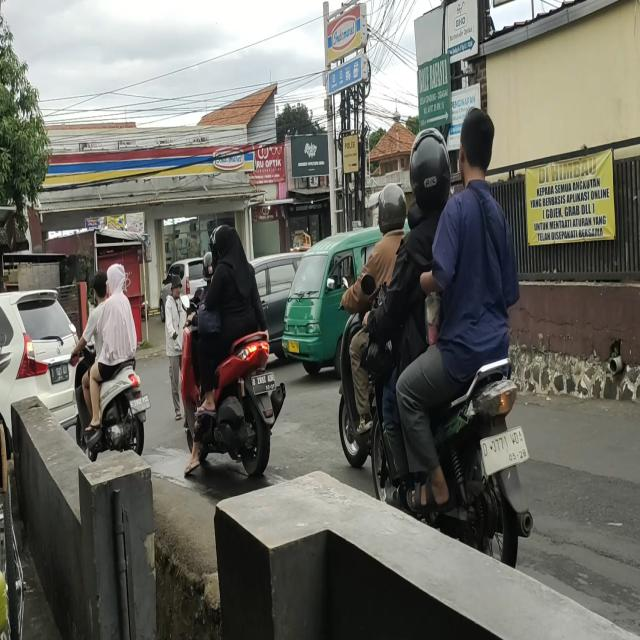helmet: (410, 128, 451, 206), (379, 183, 406, 230), (202, 252, 213, 280)
no-helmet: (458, 107, 493, 178), (102, 262, 125, 298), (216, 227, 240, 260), (92, 274, 106, 298)
